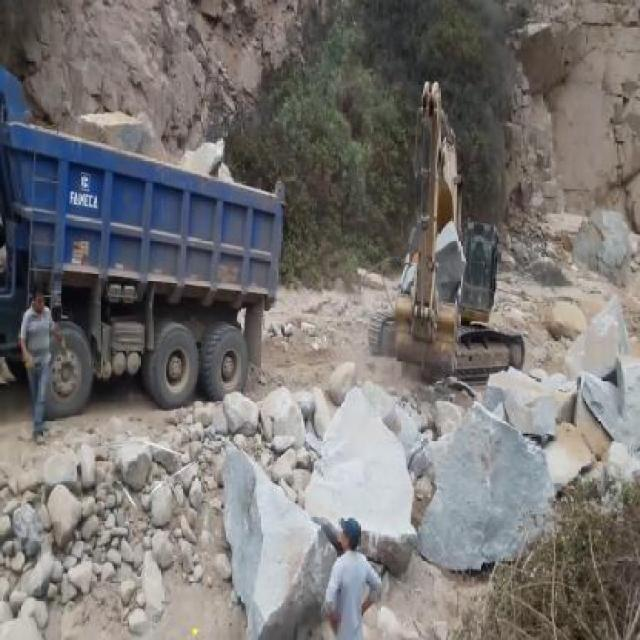Dump Truck: (0, 64, 286, 419)
Excavator: (367, 79, 525, 387)
